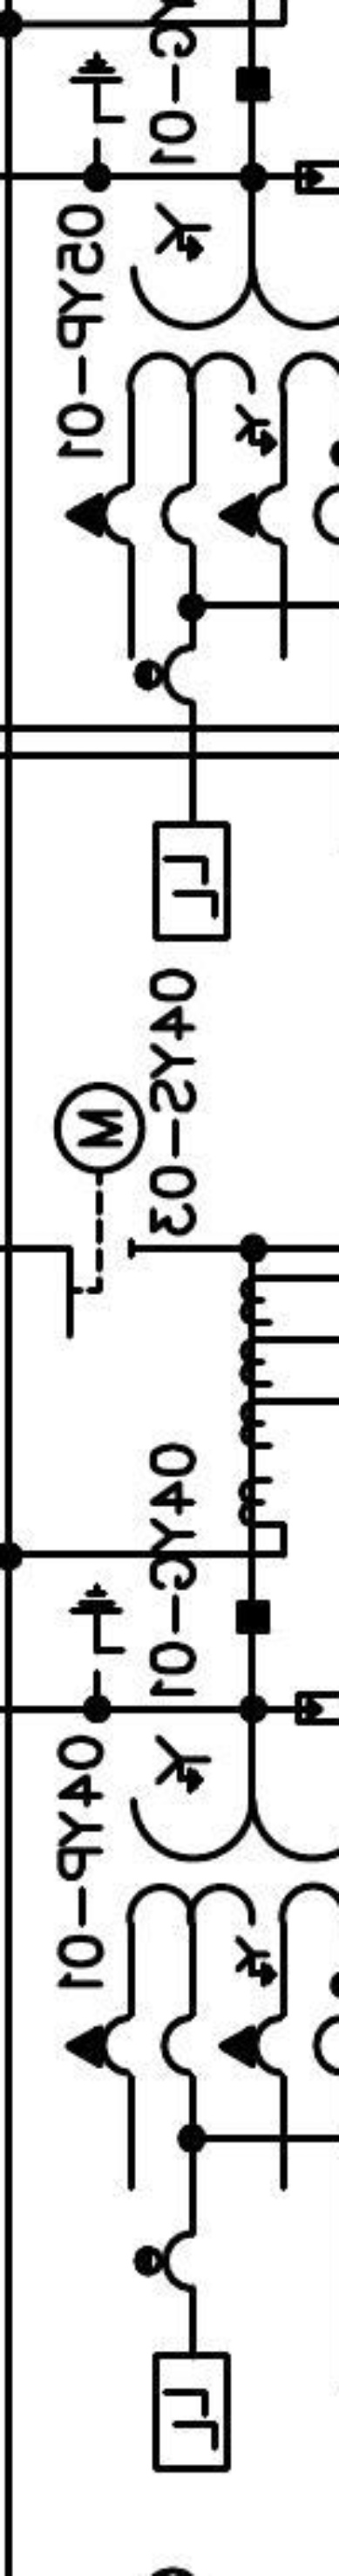115_1way_ds_w_motor: (54, 1078, 149, 1341)
115_gs: (66, 46, 129, 148), (66, 1579, 129, 1679)
LL: (151, 2349, 233, 2474), (151, 818, 233, 941)
